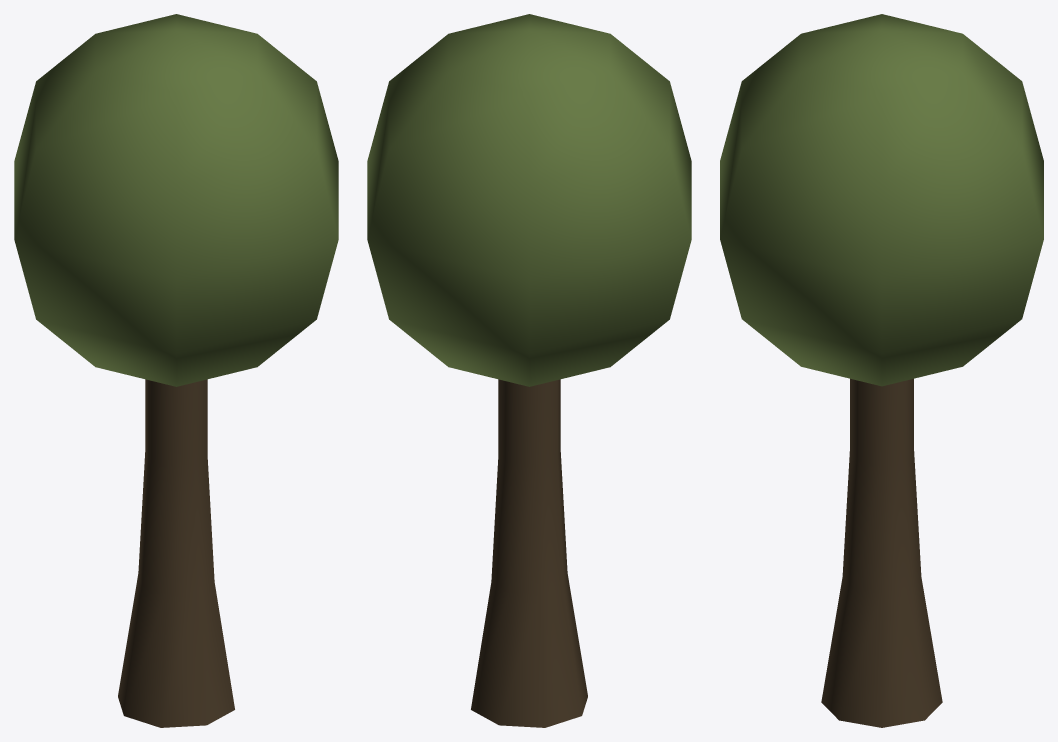
Rendered from PS_Tree01.fbx.
3 renders of one model, left to right at view 1: azimuth 30°, elevation 25°; view 2: azimuth 150°, elevation 25°; view 3: azimuth 270°, elevation 25°, orthographic.
Visible parts, largest first — view 1: PS_Tree01; view 2: PS_Tree01; view 3: PS_Tree01.
Boxes of the visible parts, <box> form: PS_Tree01: <box>14,14,338,727</box>; PS_Tree01: <box>367,14,691,727</box>; PS_Tree01: <box>720,14,1043,727</box>.
Size of the model in its own units: 2.7 by 5.35 by 2.34.
